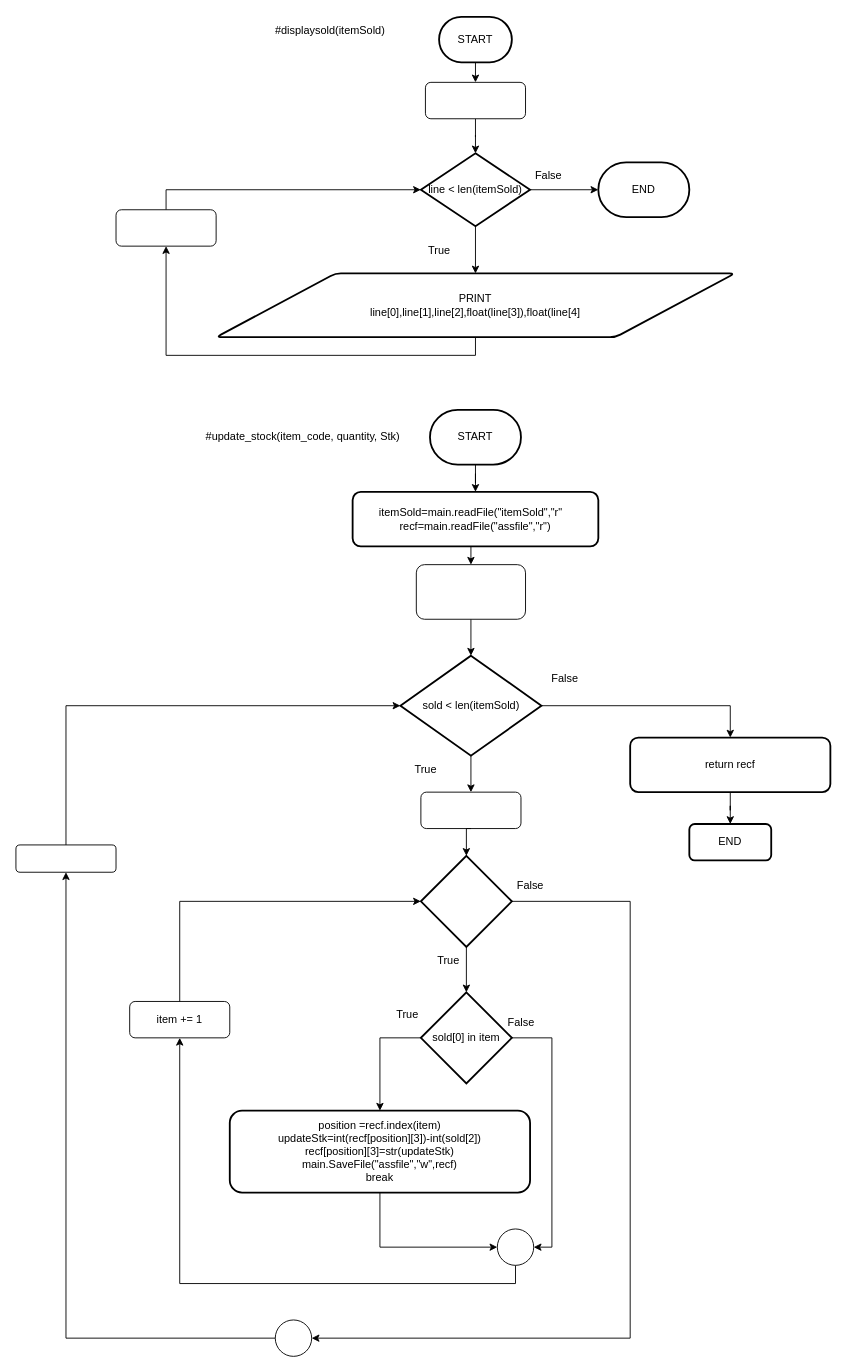
The diagram is 847 pixels wide and 1372 high, and some of its shapes have lost their labels. The centre of each missing label's shape, as x and y in pixels:
item < len(recf): [466,900]
item=0: [470,810]
line +=1: [165,227]
line=0: [475,100]
sold += 1: [65,858]
sold=0: [470,591]
